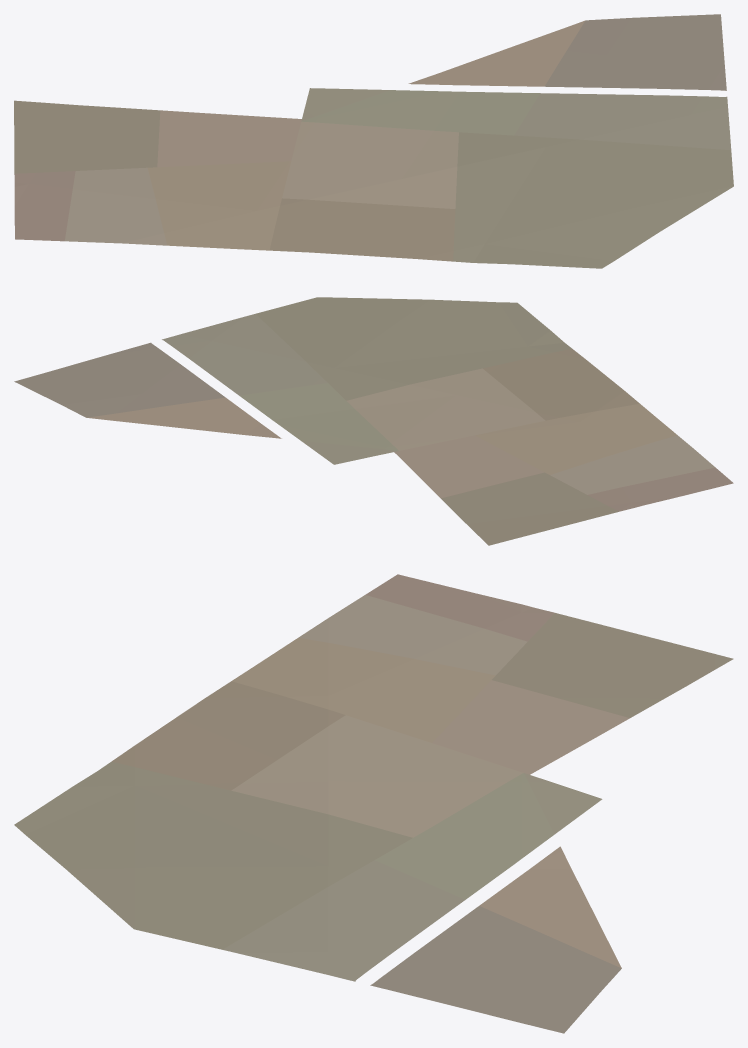
Rendered from farm_21_18_soil.glb.
3 renders of one model, top to bottom at view 1: azimuth 30°, elevation 25°; view 2: azimuth 150°, elevation 25°; view 3: azimuth 270°, elevation 25°, orthographic. The views are drawn at different scales.
Parts seen in each view (by area): view 1: geometry_0; view 2: geometry_0; view 3: geometry_0.
Part boxes in pixels (x1=…): geometry_0: x1=14, y1=14, x2=733, y2=268; geometry_0: x1=14, y1=297, x2=733, y2=545; geometry_0: x1=14, y1=574, x2=733, y2=1033.
Bounding box in the file's own units: 430 × 9.08 × 298.
